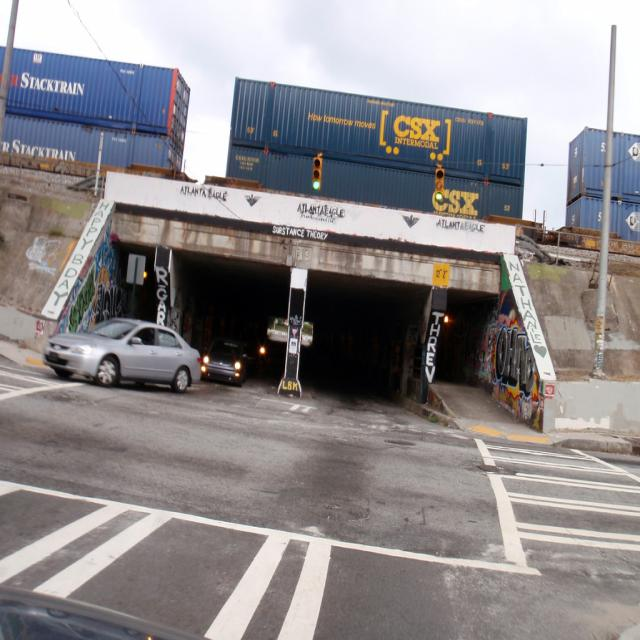car: (39, 313, 204, 393)
